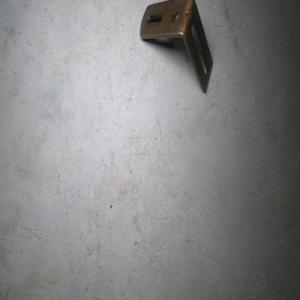MetalPart: (138, 0, 213, 95)
